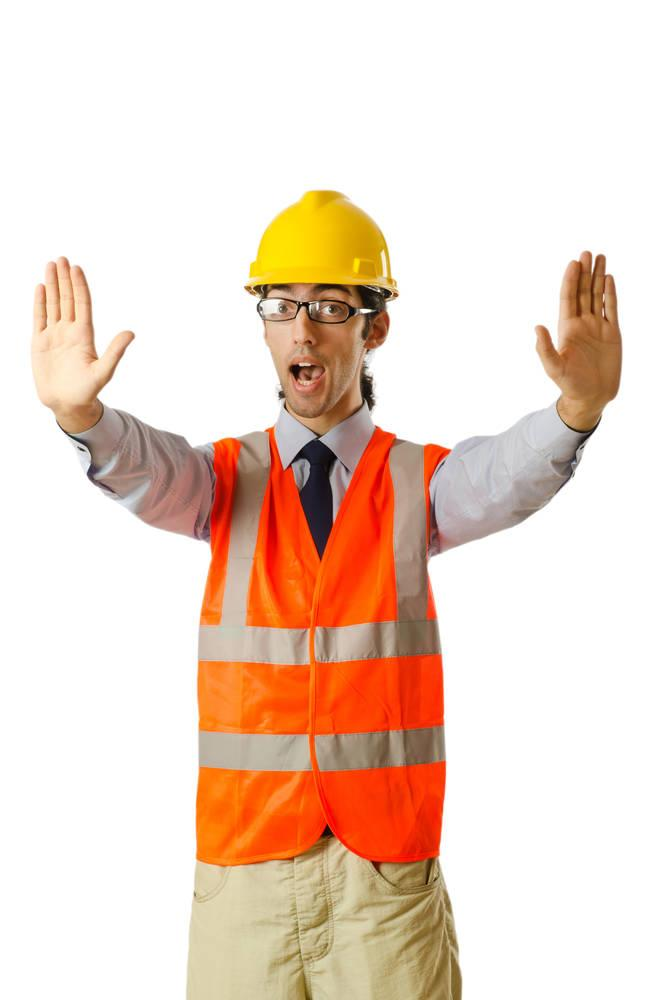helmet: (246, 188, 403, 299)
